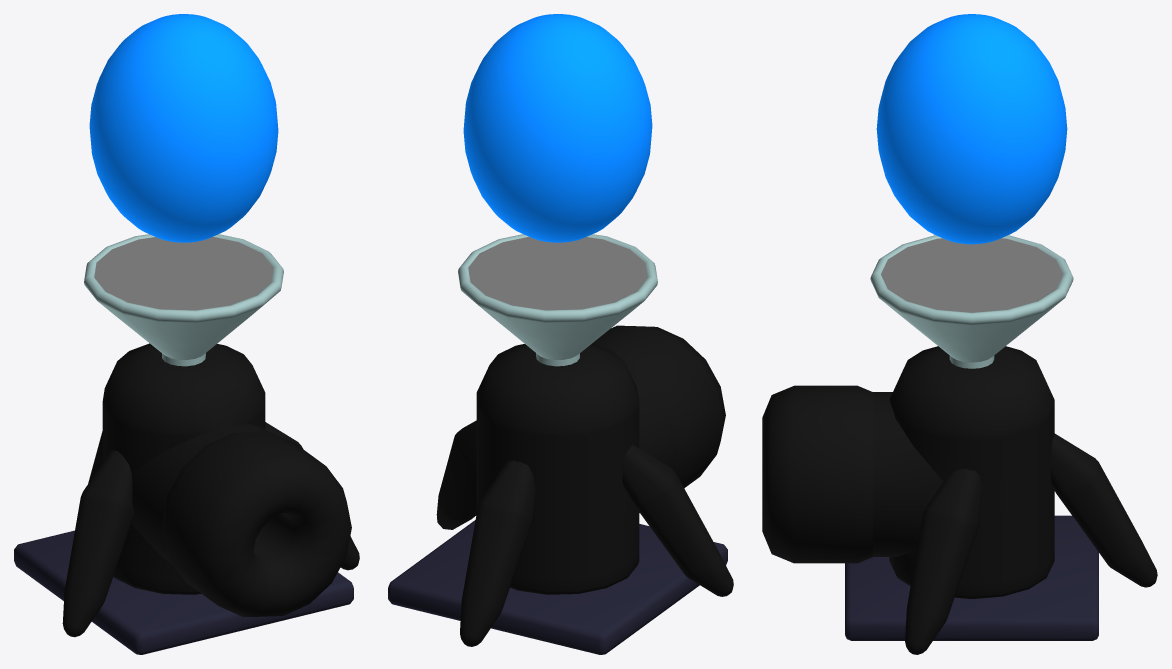
Rendered from LastLuna_Model_Station_Portal_Reciver.fbx.
3 renders of one model, left to right at view 1: azimuth 30°, elevation 25°; view 2: azimuth 150°, elevation 25°; view 3: azimuth 270°, elevation 25°, orthographic.
Visible parts, largest first — view 1: Beaker004, Portal001, Stand_Base_Small001, Funnel_Content001, Leg_Spike001, Funnel001; view 2: Beaker004, Portal001, Leg_Spike001, Stand_Base_Small001, Funnel_Content001, Funnel001; view 3: Beaker004, Portal001, Leg_Spike001, Stand_Base_Small001, Funnel_Content001, Funnel001.
Boxes of the visible parts, x1,y1,x2,y2 form: Beaker004: (102, 343, 351, 617); Portal001: (89, 14, 278, 242); Stand_Base_Small001: (14, 530, 353, 654); Funnel_Content001: (94, 237, 273, 310); Leg_Spike001: (62, 422, 359, 637); Funnel001: (84, 234, 283, 366); Beaker004: (476, 325, 725, 594); Portal001: (463, 14, 652, 242); Leg_Spike001: (436, 420, 733, 646); Stand_Base_Small001: (388, 520, 727, 654); Funnel_Content001: (468, 237, 647, 310); Funnel001: (458, 234, 657, 366); Beaker004: (762, 346, 1054, 598); Portal001: (876, 14, 1067, 244); Leg_Spike001: (905, 433, 1157, 654); Stand_Base_Small001: (845, 515, 1098, 640); Funnel_Content001: (881, 238, 1062, 312); Funnel001: (870, 235, 1073, 368).
Size of the model in its own units: 135 by 247 by 156.
